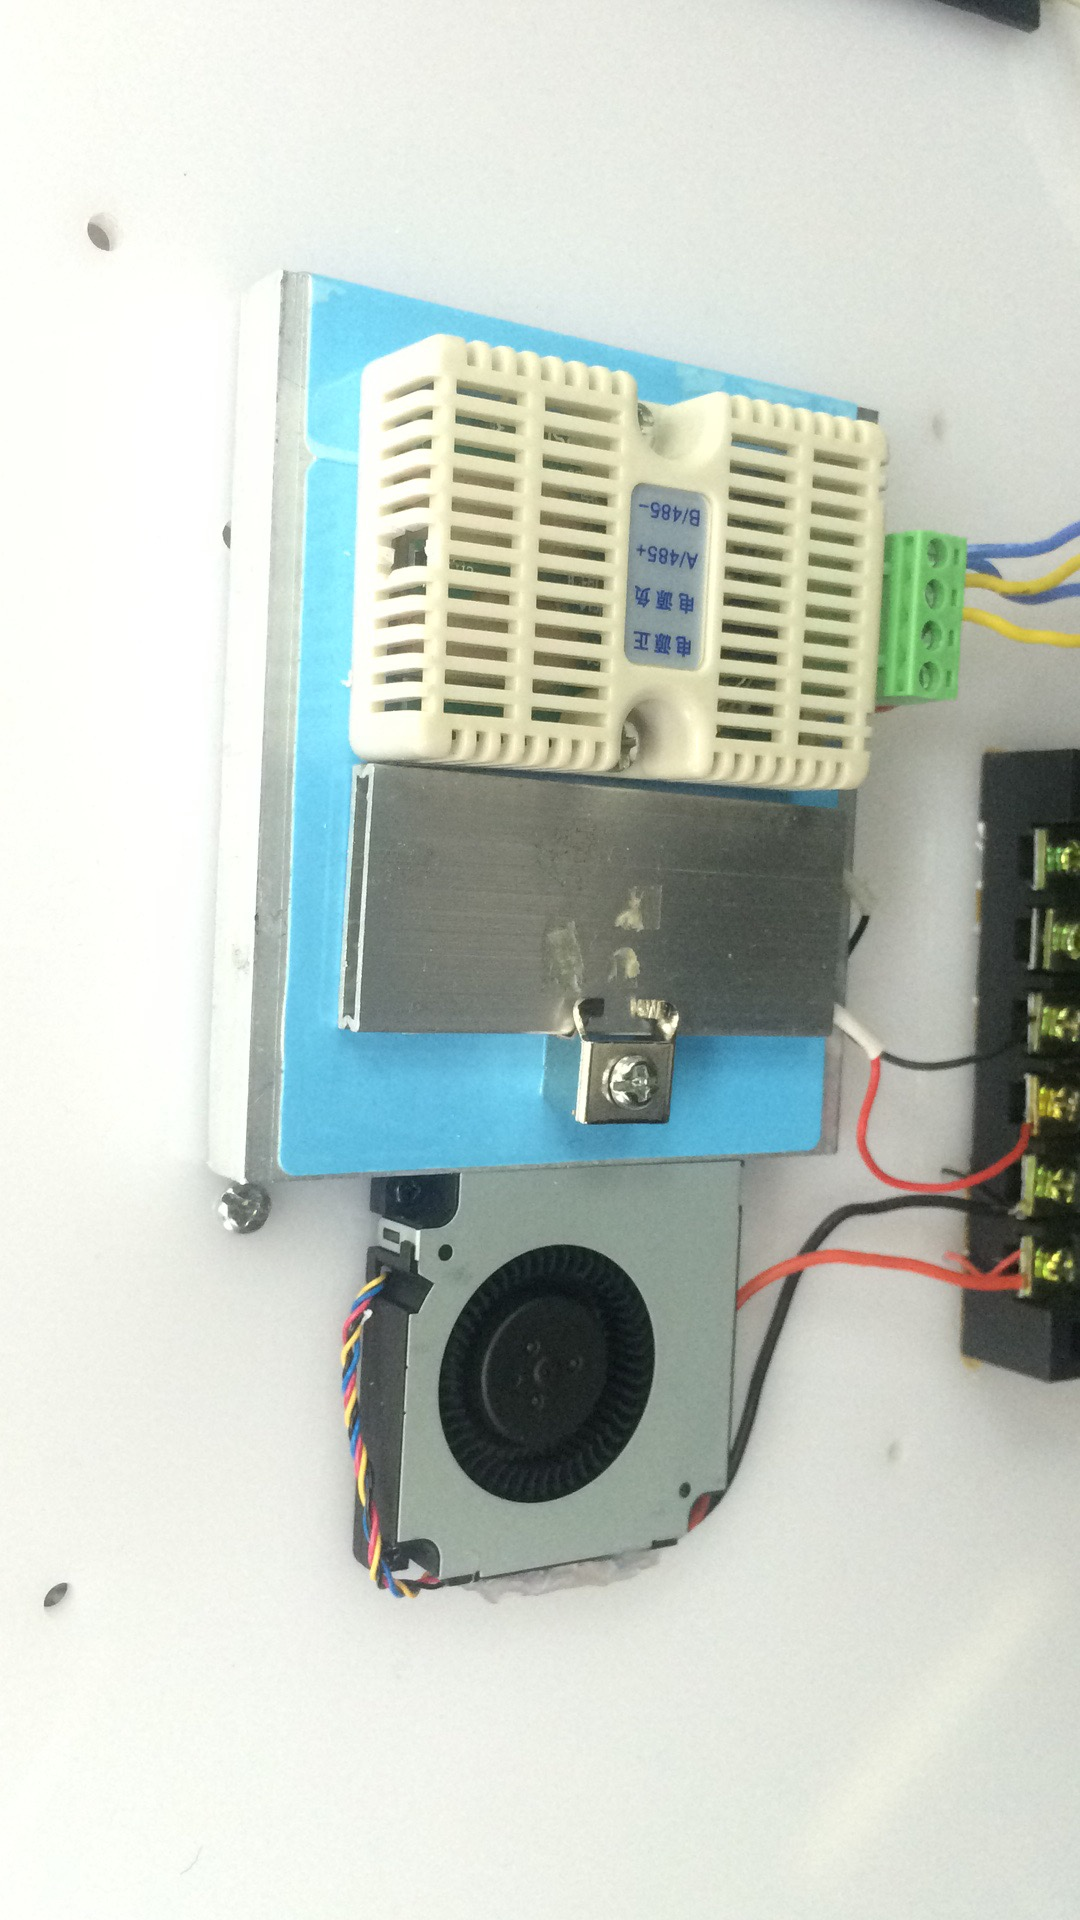fan: (349, 1166, 761, 1607)
heater: (349, 766, 857, 1062)
temperature: (343, 328, 891, 796)
